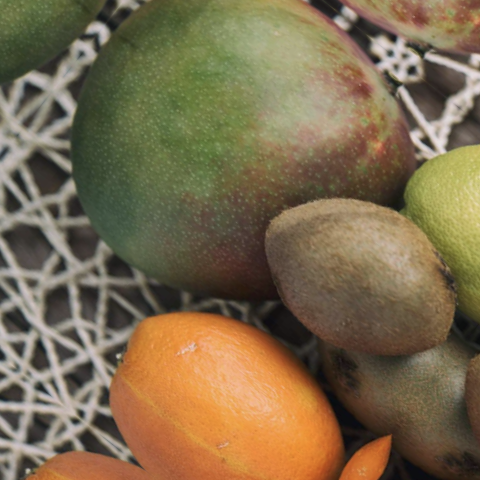kiwi: (0, 0, 464, 395), (226, 149, 480, 400)
orange: (63, 257, 383, 480)
